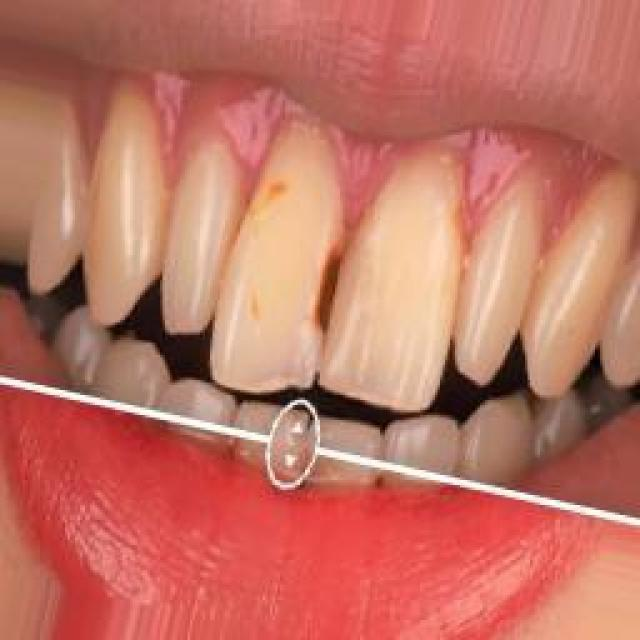caries: (323, 258, 346, 338)
